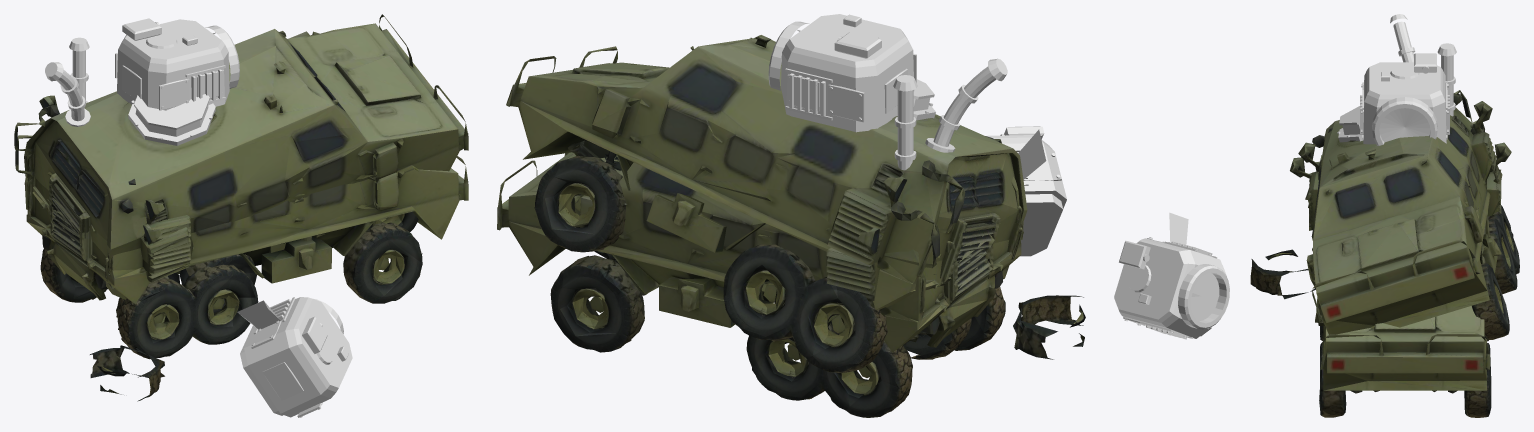
Rendered from aa_remetz.glb.
3 views of the same model, side by side, from view 1: azimuth 30°, elevation 25°; view 2: azimuth 150°, elevation 25°; view 3: azimuth 270°, elevation 25° (orthographic). The views are drawn at different scales.
Parts seen in each view (by area): view 1: WRECK_hull_hull, hull_hull, hull_rubber, WRECK_turret_hull, turret_hull, WRECK_hull_metal, WRECK_hull_rubber, turret_metal, WRECK_turret_metal, hull_metal; view 2: WRECK_hull_hull, hull_hull, WRECK_hull_rubber, hull_rubber, turret_hull, WRECK_turret_hull, turret_metal, WRECK_hull_metal, hull_metal; view 3: WRECK_hull_hull, hull_hull, WRECK_turret_hull, turret_hull, WRECK_turret_metal, WRECK_hull_rubber, turret_metal, turret_glass, WRECK_hull_metal, hull_metal.
Part boxes in pixels (left/top/right/bottom): WRECK_hull_hull: left=14, top=14, right=468, bottom=319; hull_hull: left=15, top=135, right=468, bottom=358; hull_rubber: left=50, top=222, right=421, bottom=359; WRECK_turret_hull: left=237, top=297, right=352, bottom=417; turret_hull: left=115, top=19, right=229, bottom=110; WRECK_hull_metal: left=45, top=62, right=215, bottom=145; WRECK_hull_rubber: left=90, top=211, right=418, bottom=401; turret_metal: left=122, top=18, right=239, bottom=109; WRECK_turret_metal: left=251, top=297, right=348, bottom=417; hull_metal: left=69, top=37, right=89, bottom=103; WRECK_hull_hull: left=506, top=35, right=1027, bottom=372; hull_hull: left=497, top=136, right=1023, bottom=416; WRECK_hull_rubber: left=534, top=158, right=1085, bottom=372; hull_rubber: left=550, top=260, right=993, bottom=417; turret_hull: left=781, top=14, right=916, bottom=132; WRECK_turret_hull: left=986, top=129, right=1066, bottom=256; turret_metal: left=768, top=14, right=881, bottom=121; WRECK_hull_metal: left=897, top=58, right=1007, bottom=152; hull_metal: left=893, top=75, right=917, bottom=170; WRECK_hull_hull: left=1290, top=90, right=1515, bottom=339; hull_hull: left=1298, top=120, right=1511, bottom=417; WRECK_turret_hull: left=1114, top=212, right=1226, bottom=338; turret_hull: left=1362, top=62, right=1447, bottom=144; WRECK_turret_metal: left=1119, top=237, right=1229, bottom=339; WRECK_hull_rubber: left=1250, top=205, right=1519, bottom=339; turret_metal: left=1360, top=53, right=1449, bottom=145; turret_glass: left=1379, top=108, right=1430, bottom=142; WRECK_hull_metal: left=1337, top=14, right=1415, bottom=142; hull_metal: left=1437, top=43, right=1456, bottom=116.
Bounding box in the file's own units: 7.35 × 5.15 × 7.08.
Materials: 1 (1 with a texture image).
